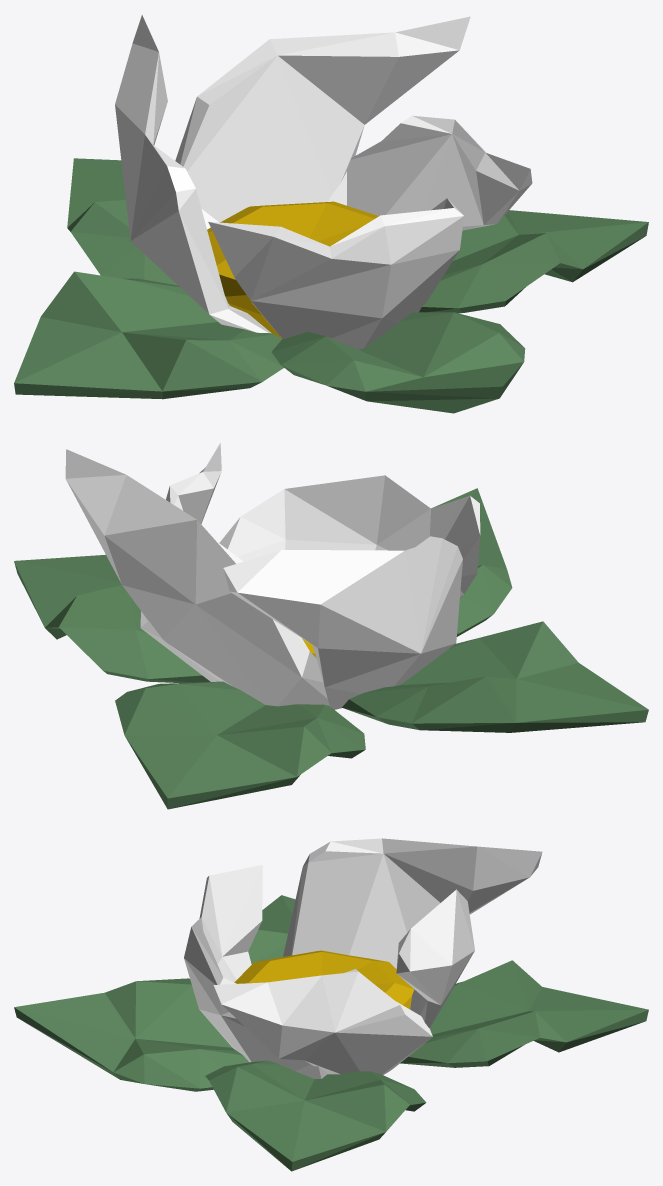
The model's file is _flower_5.glb.
3 renders of one model, top to bottom at view 1: azimuth 30°, elevation 25°; view 2: azimuth 150°, elevation 25°; view 3: azimuth 270°, elevation 25°, orthographic. The views are drawn at different scales.
Parts seen in each view (by area): view 1: flower_5; view 2: flower_5; view 3: flower_5.
Boxes of the visible parts, x1,y1,x2,y2 form: flower_5: (14,15,648,413); flower_5: (14,443,648,809); flower_5: (14,838,648,1171).
Size of the model in its own units: 1.09 by 0.3672 by 1.1.
1 material, 1 textured.
